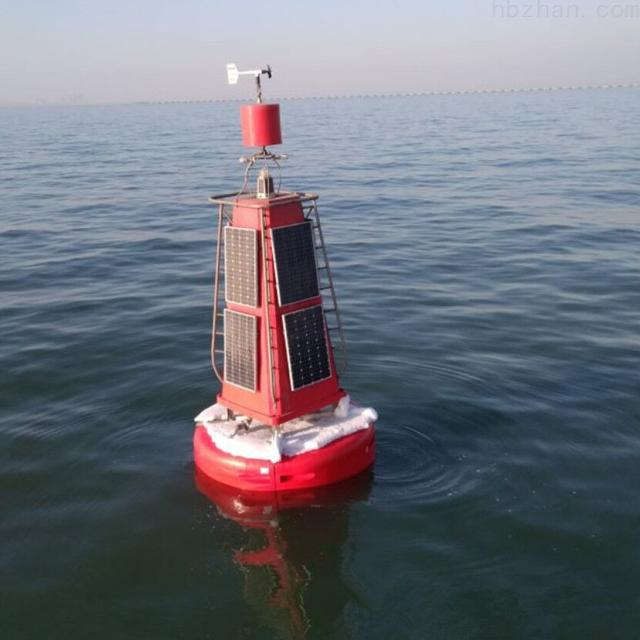buoy: (183, 59, 388, 491)
